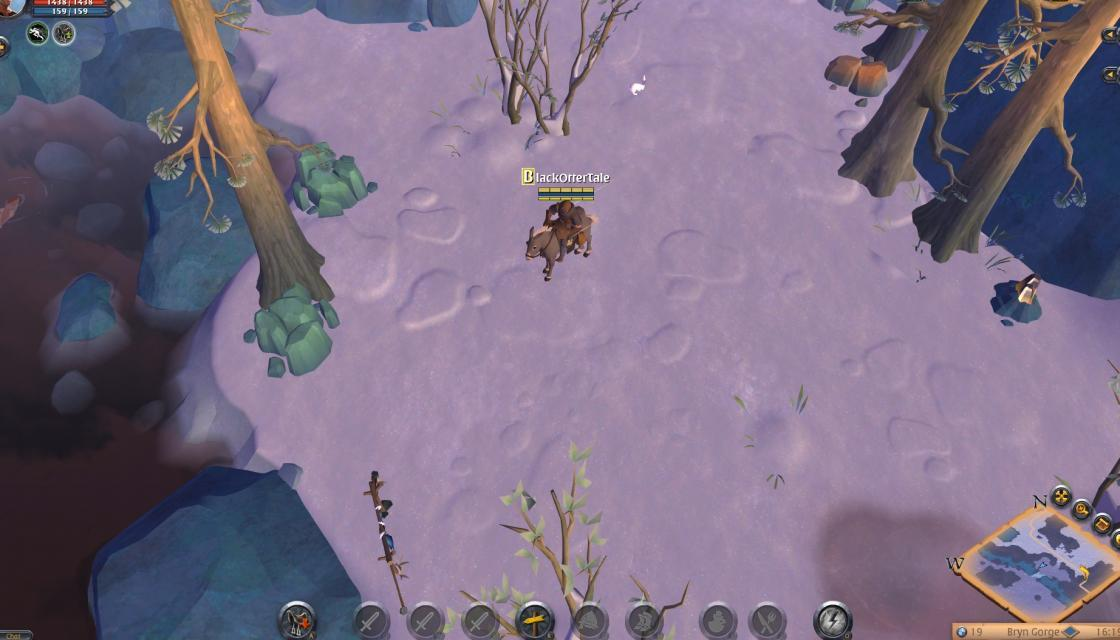copperore: (990, 266, 1047, 326)
limestone: (823, 49, 893, 96)
sandstone: (245, 282, 341, 384), (288, 140, 371, 226), (811, 0, 885, 16)
